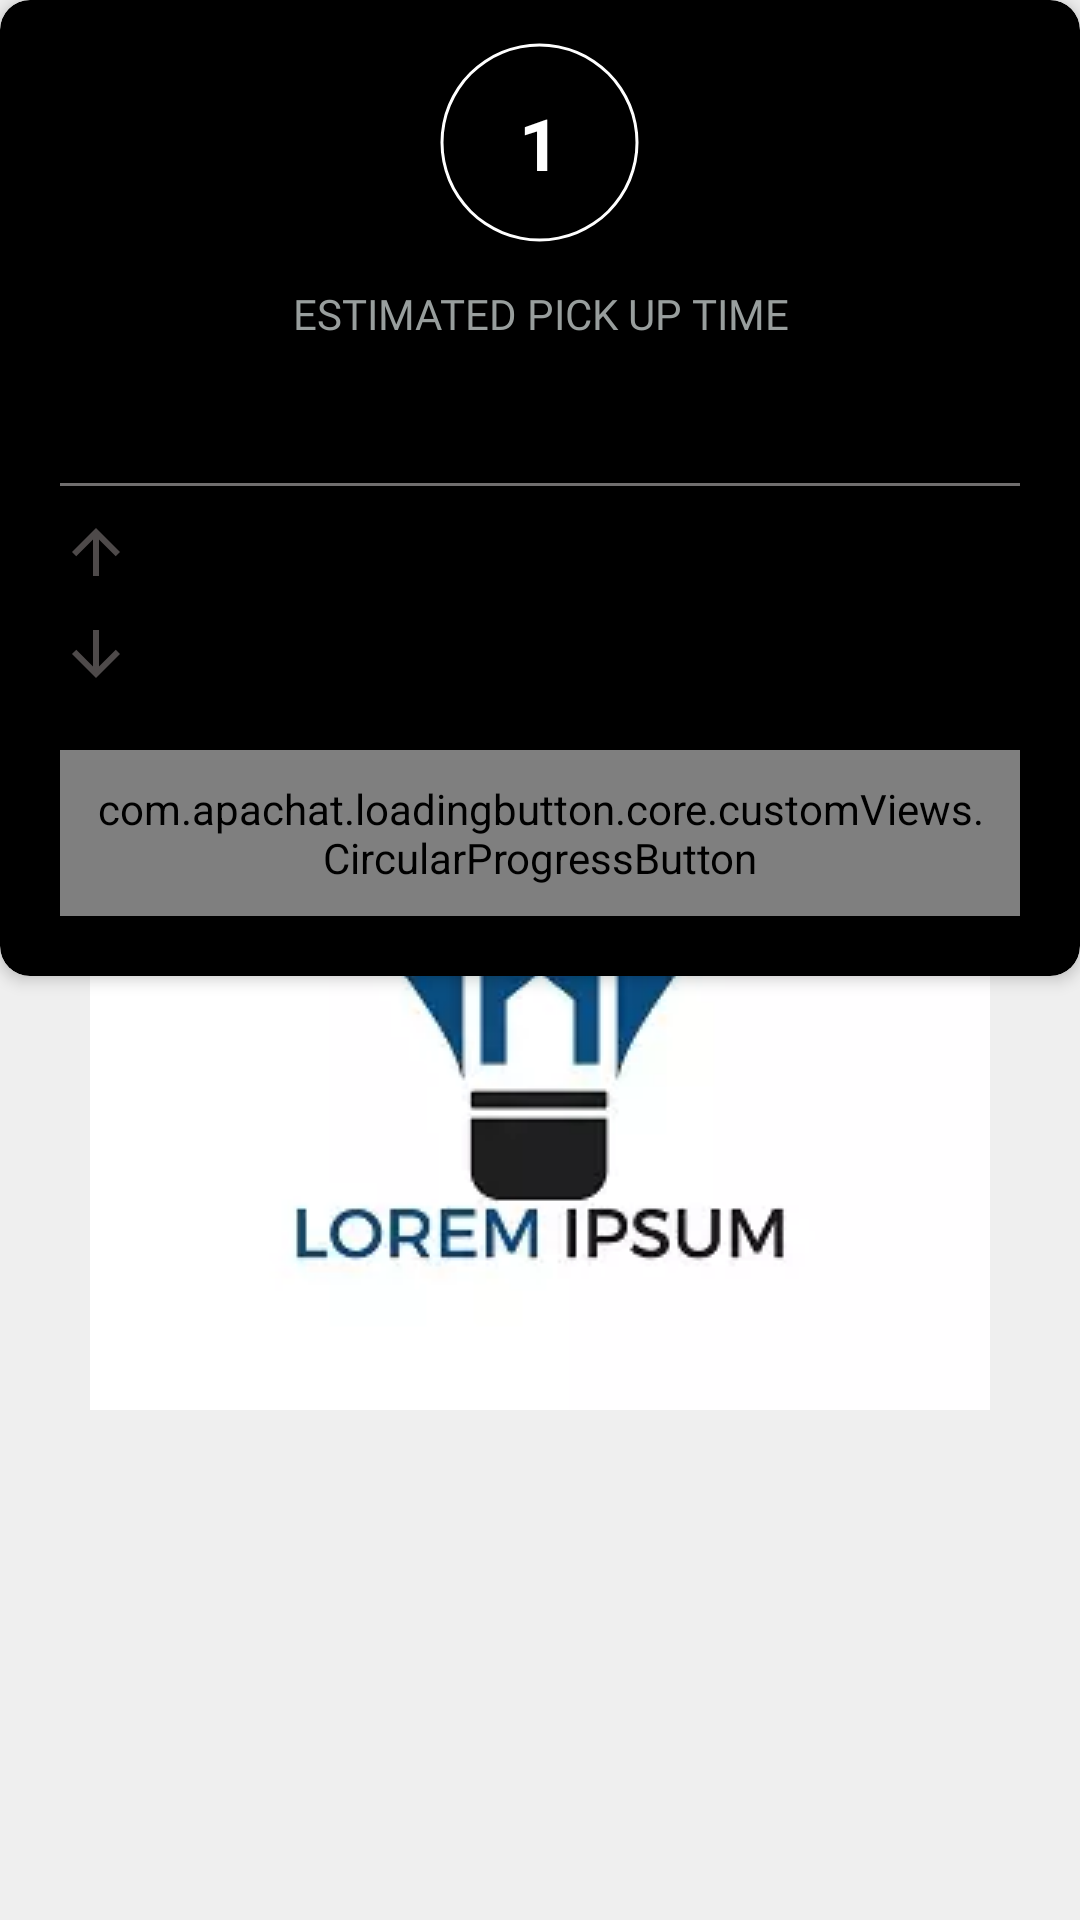

Where icons sit on this 1080w x 1920h app screen, as (x1, y1, x2, y2):
arrow downward: (72, 630, 120, 678)
arrow upward: (72, 528, 120, 576)
